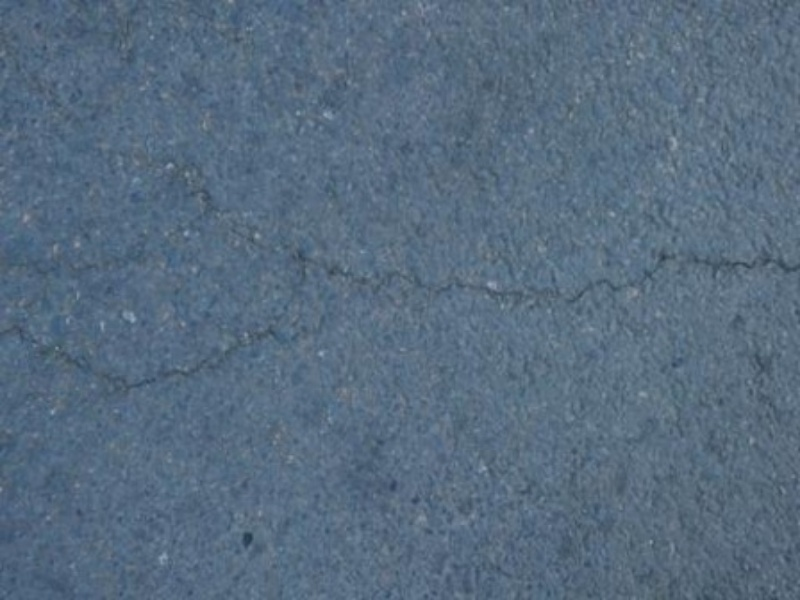crack: (237, 212, 797, 299), (6, 318, 349, 402)
